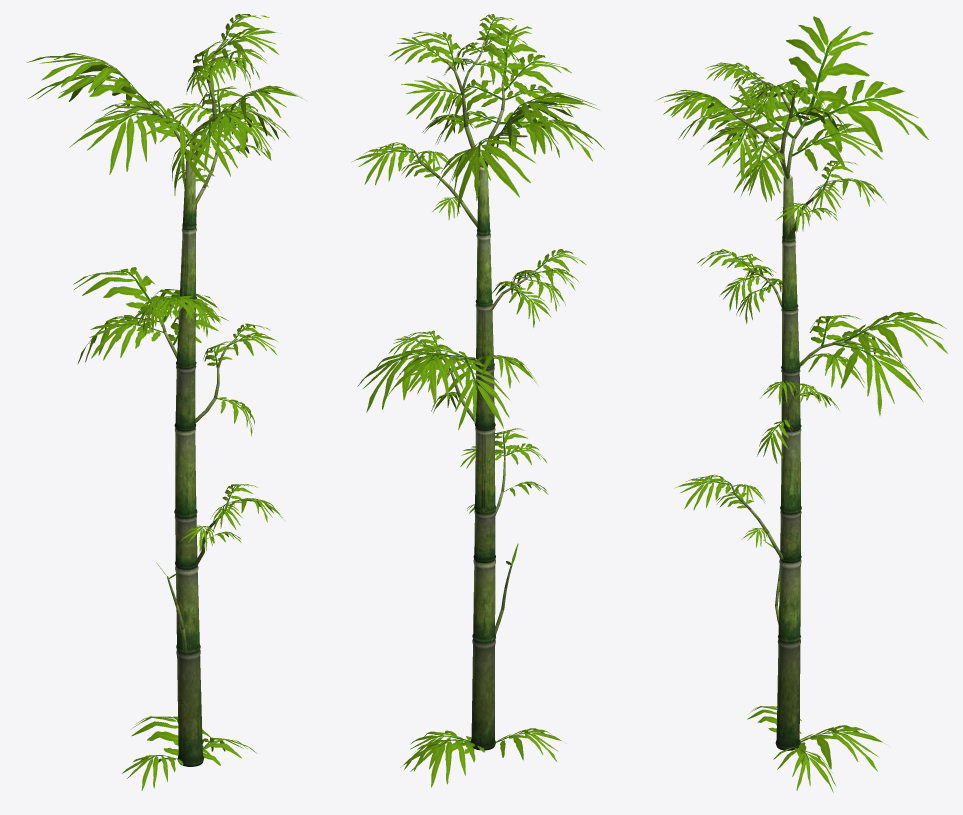
The model's file is bamboo_c.glb.
3 renders of one model, left to right at view 1: azimuth 30°, elevation 25°; view 2: azimuth 150°, elevation 25°; view 3: azimuth 270°, elevation 25°, orthographic. The views are drawn at different scales.
Visible parts, largest first — view 1: Forest_bamboo_c; view 2: Forest_bamboo_c; view 3: Forest_bamboo_c.
Boxes of the visible parts, x1,y1,x2,y2 form: Forest_bamboo_c: [27, 14, 306, 790]; Forest_bamboo_c: [351, 14, 604, 787]; Forest_bamboo_c: [656, 16, 947, 792].
Bounding box in the file's own units: 2.87 × 8.34 × 3.18.
Materials: 3 (3 with a texture image).
